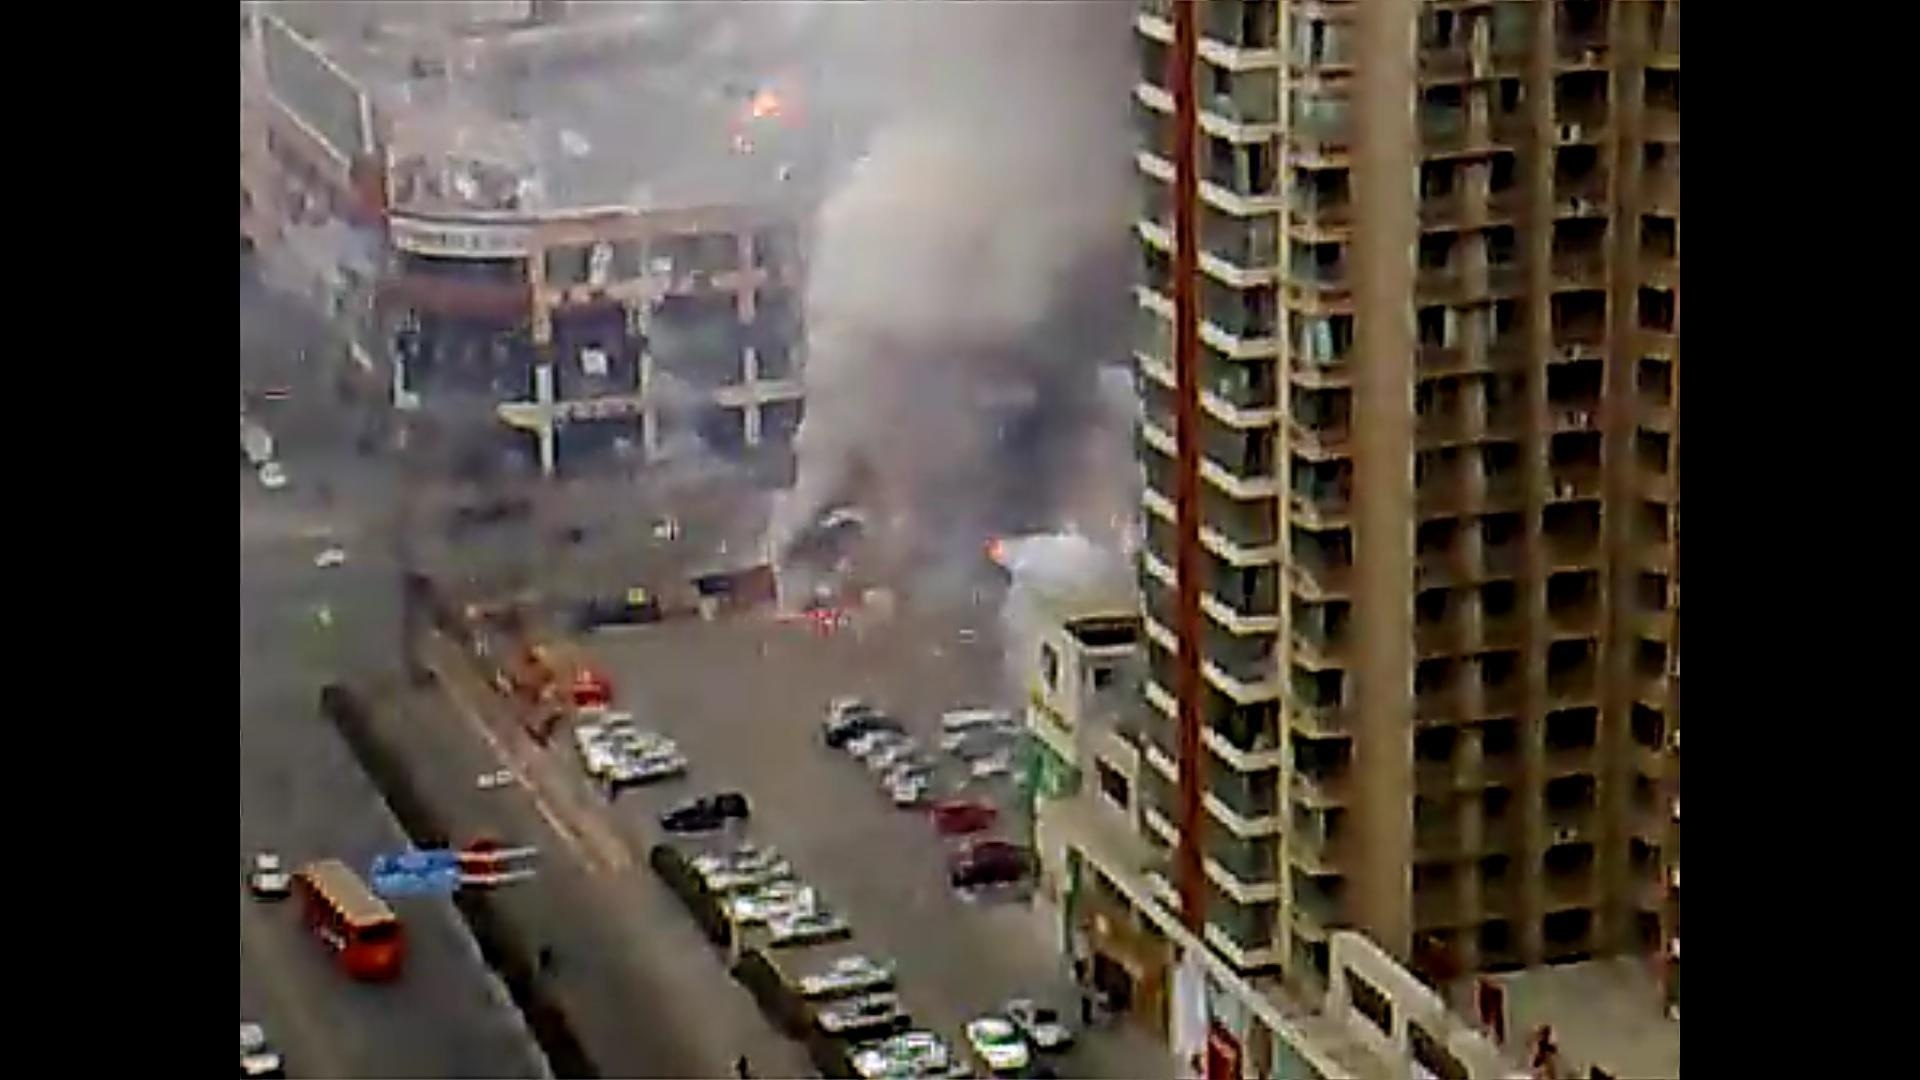fire: (741, 83, 785, 125)
